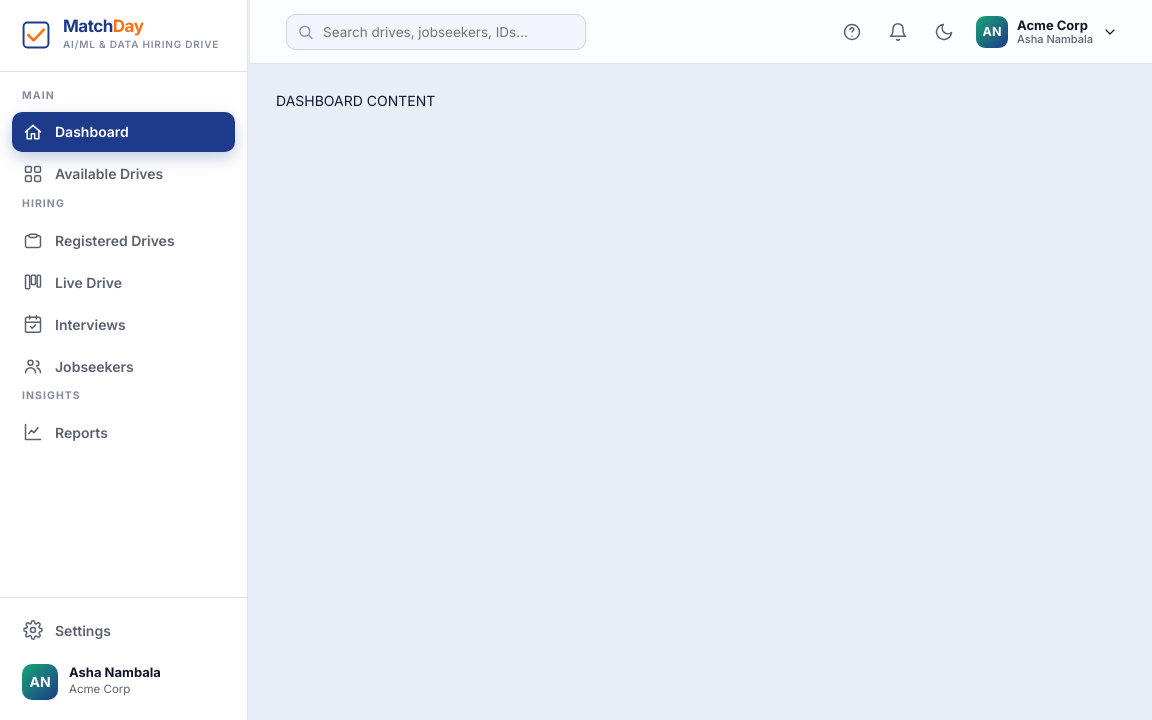
EmployerShell › navigates to /employer/registrations when the Registered Drives nav item is clicked
Click the button "Registered Drives" at (124, 240), box [12,220,235,260]
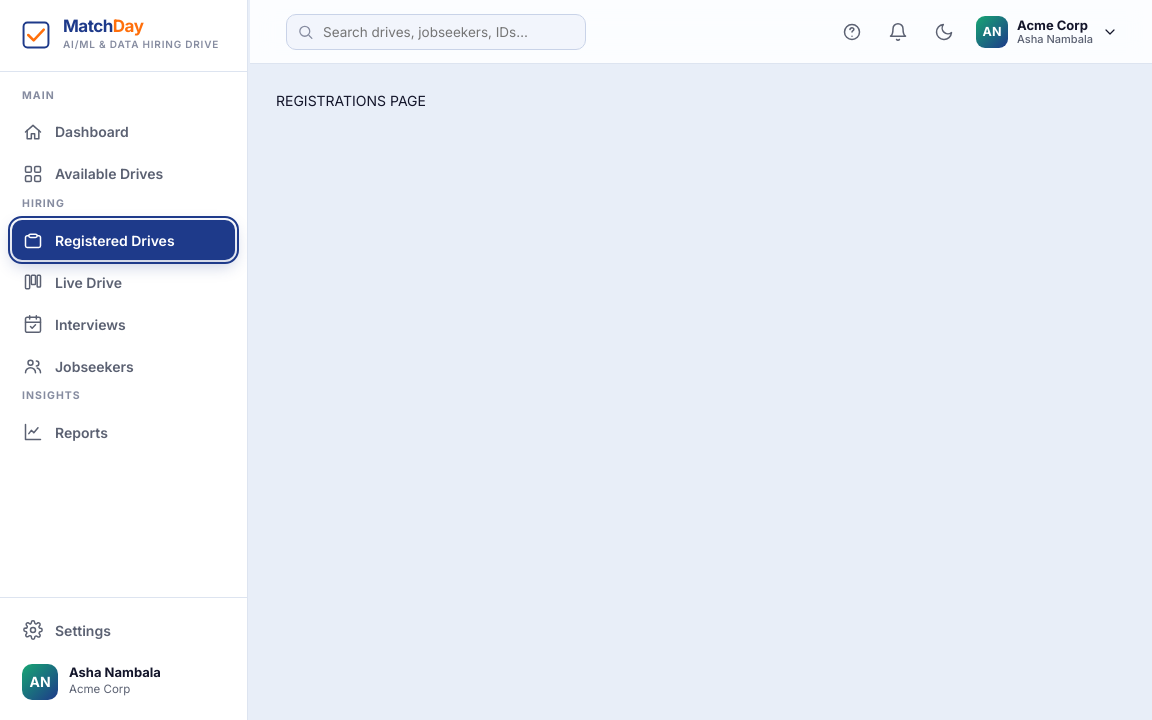
Expected: the text "REGISTRATIONS PAGE" is shown, [276,92,426,109]
